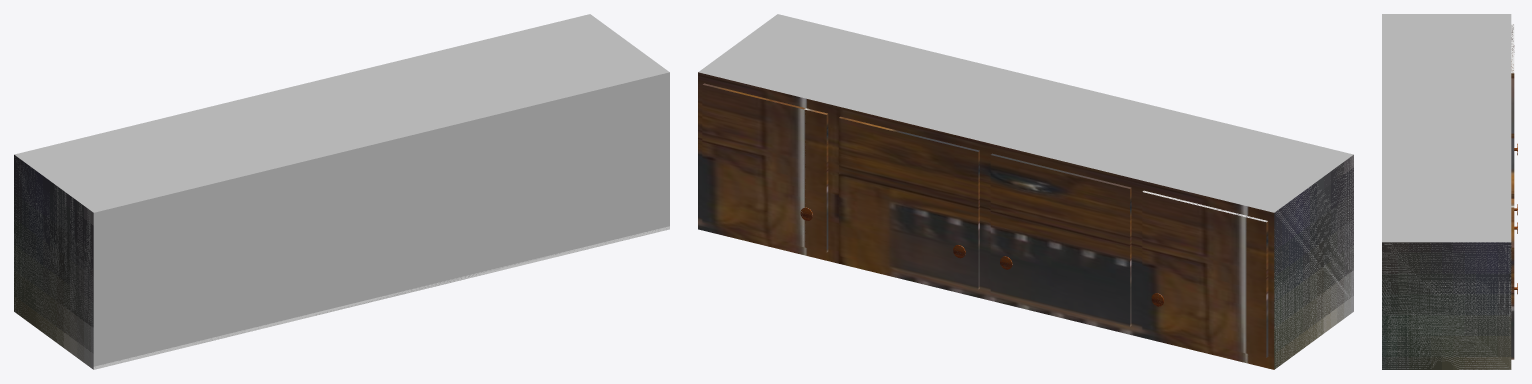
3 renders of one model, left to right at view 1: azimuth 30°, elevation 25°; view 2: azimuth 150°, elevation 25°; view 3: azimuth 270°, elevation 25°, orthographic. The views are drawn at different scales.
Parts seen in each view (by area): view 1: mesh1_mesh1-geometry; view 2: mesh1_mesh1-geometry; view 3: mesh1_mesh1-geometry.
Boxes of the visible parts, box(x1,y1,x2,y2) form: mesh1_mesh1-geometry: box(14, 14, 669, 369); mesh1_mesh1-geometry: box(698, 14, 1353, 369); mesh1_mesh1-geometry: box(1382, 14, 1517, 369).
Bounding box in the file's own units: 0.9403 × 0.2451 × 0.2363.
